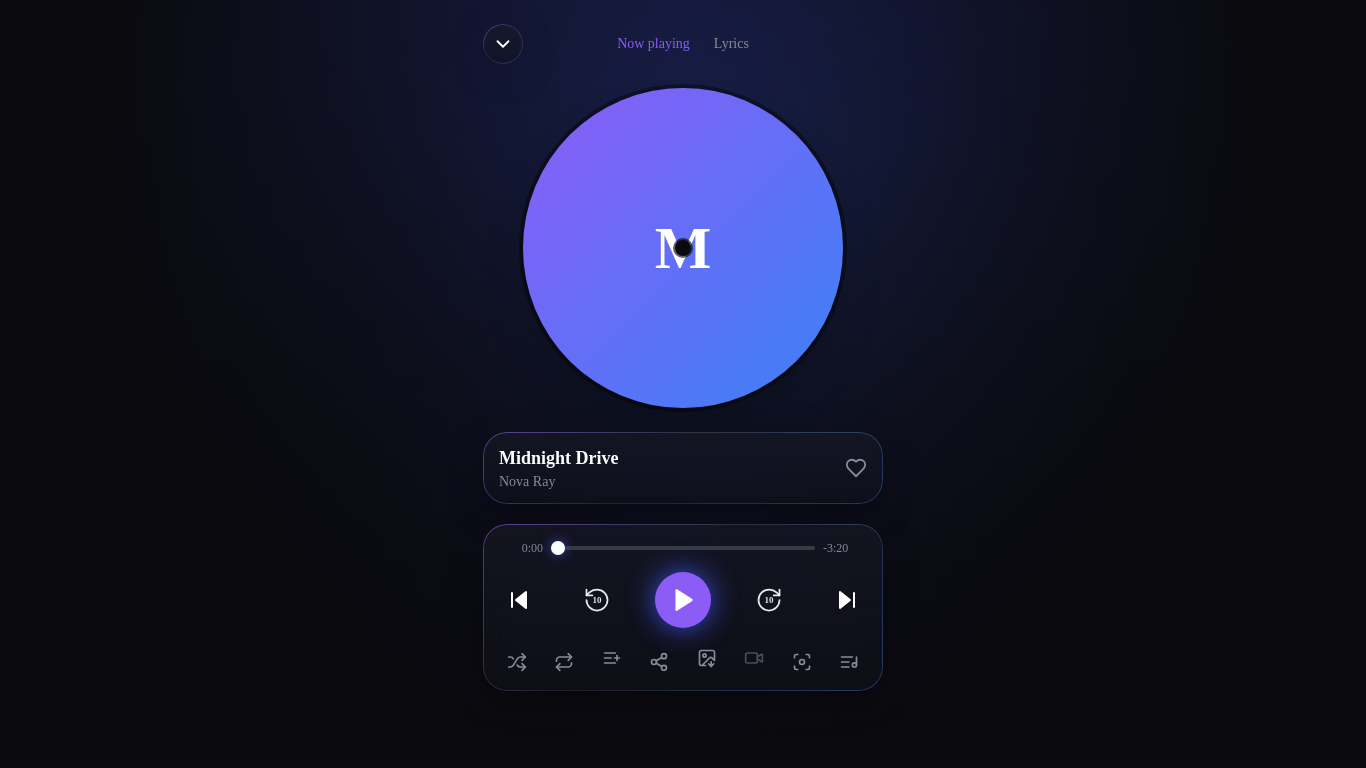
Test: FullScreenPlayer › switches to the lyrics tab and shows the fetched lines
What coordinates should you click on to do the following:
click the button "Lyrics"
I would click on:
 (731, 44)
Its box is [714, 34, 749, 54].
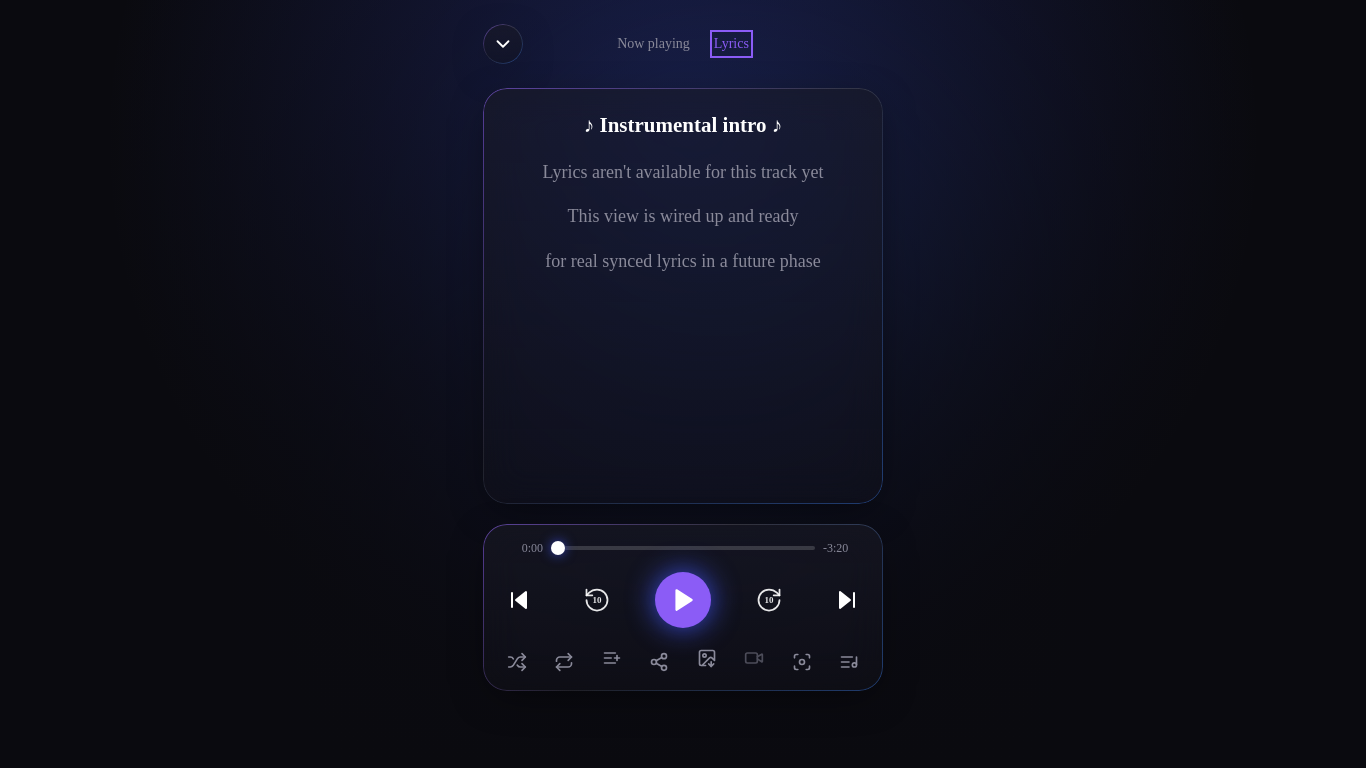
Expected: the text "Lyrics aren't available for this track yet" is shown, [542, 162, 824, 182]
